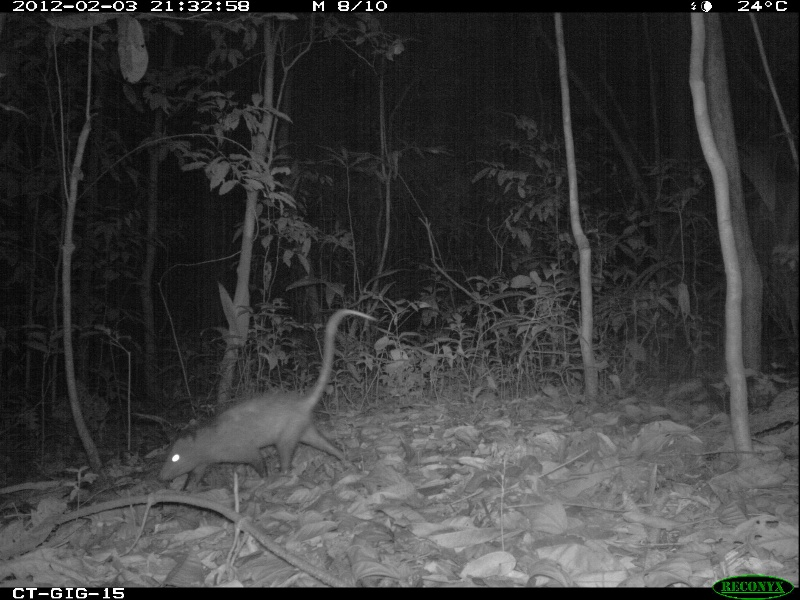opossum: (156, 303, 381, 501)
